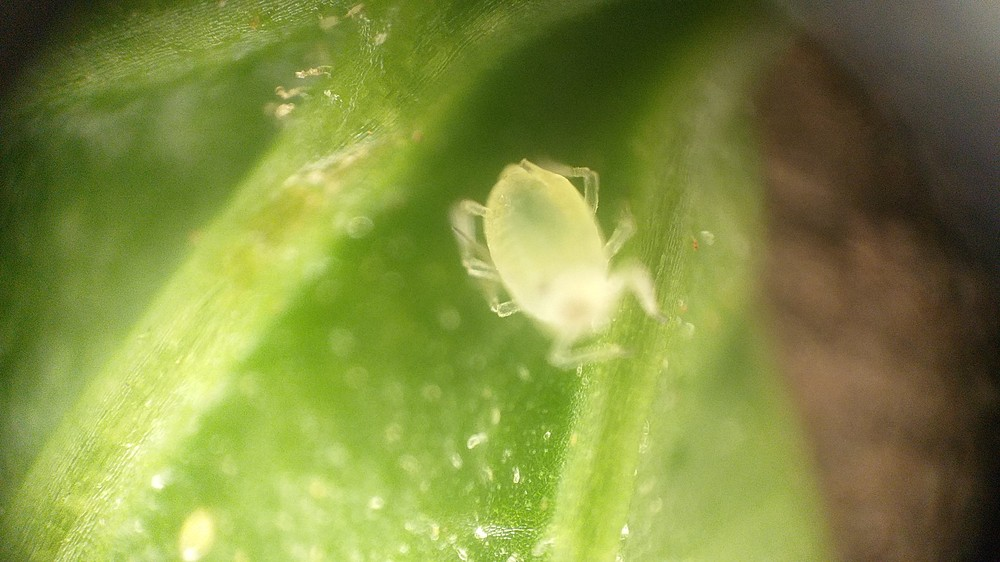Pulgon: (424, 148, 688, 392)
